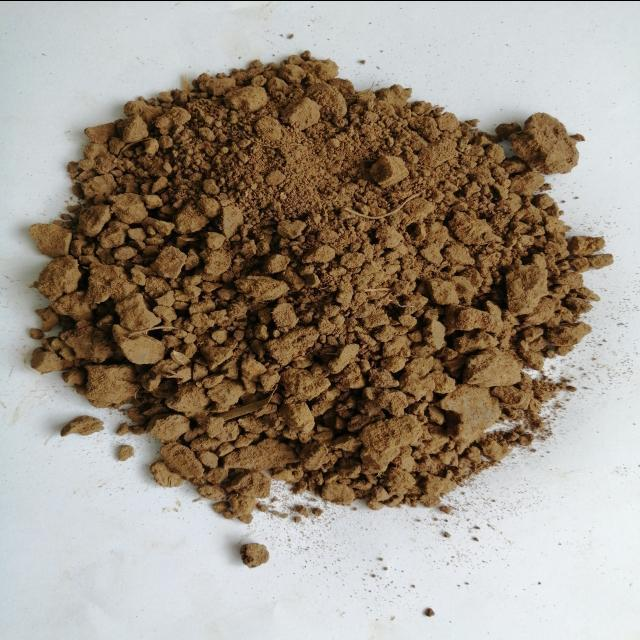soil: (114, 94, 524, 462)
